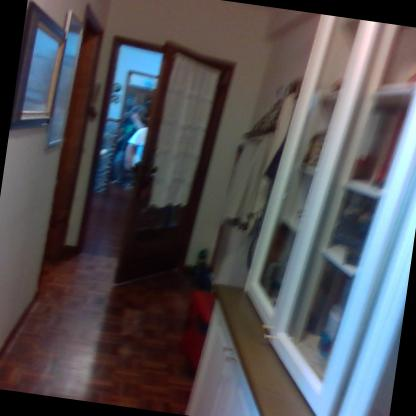semi: (63, 22, 252, 291)
